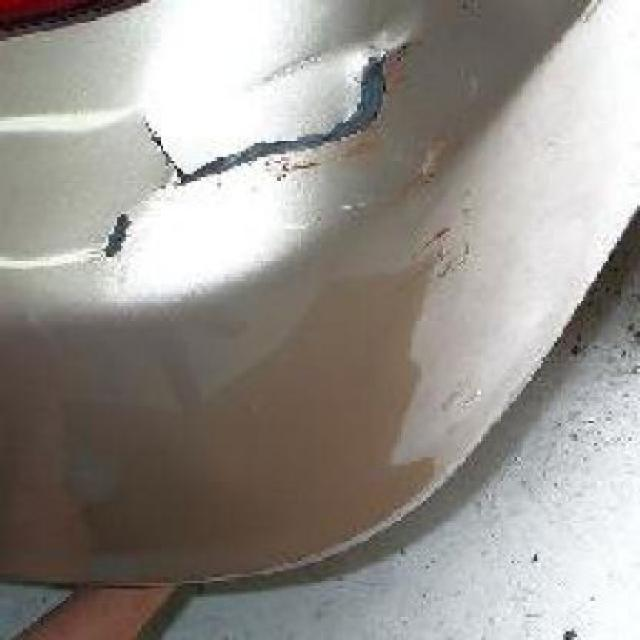dent-or-scratch: (96, 45, 441, 190)
